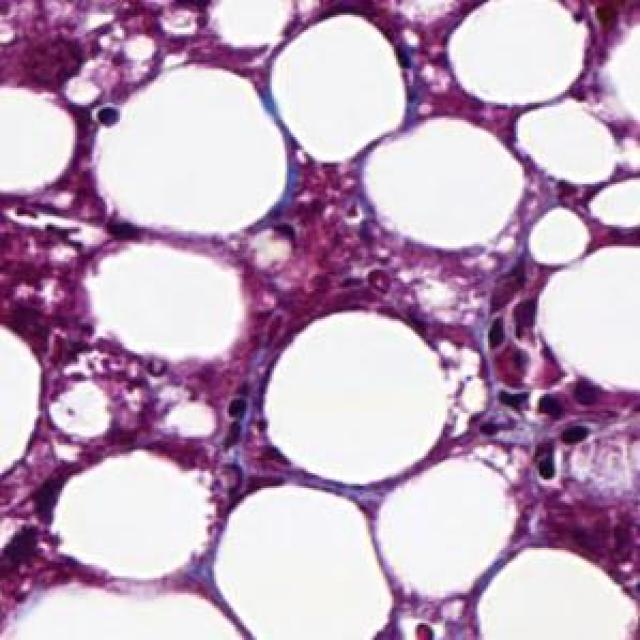inflammation: (494, 379, 600, 488), (467, 259, 548, 357)
